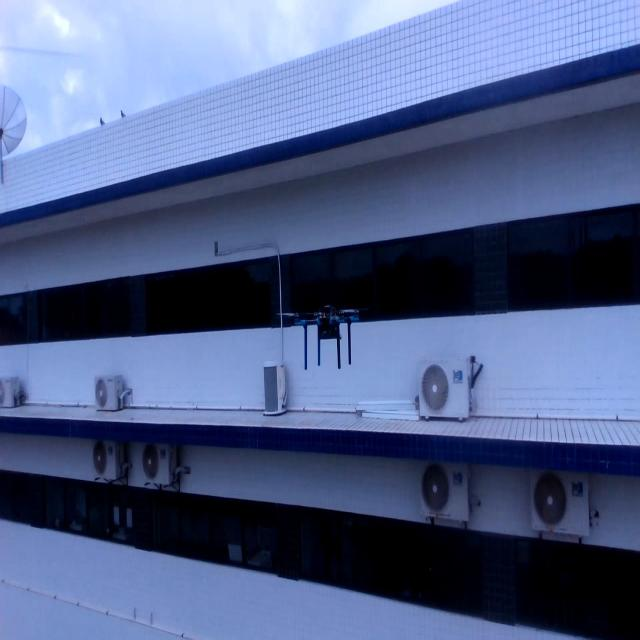-uav-: (273, 295, 377, 378)
